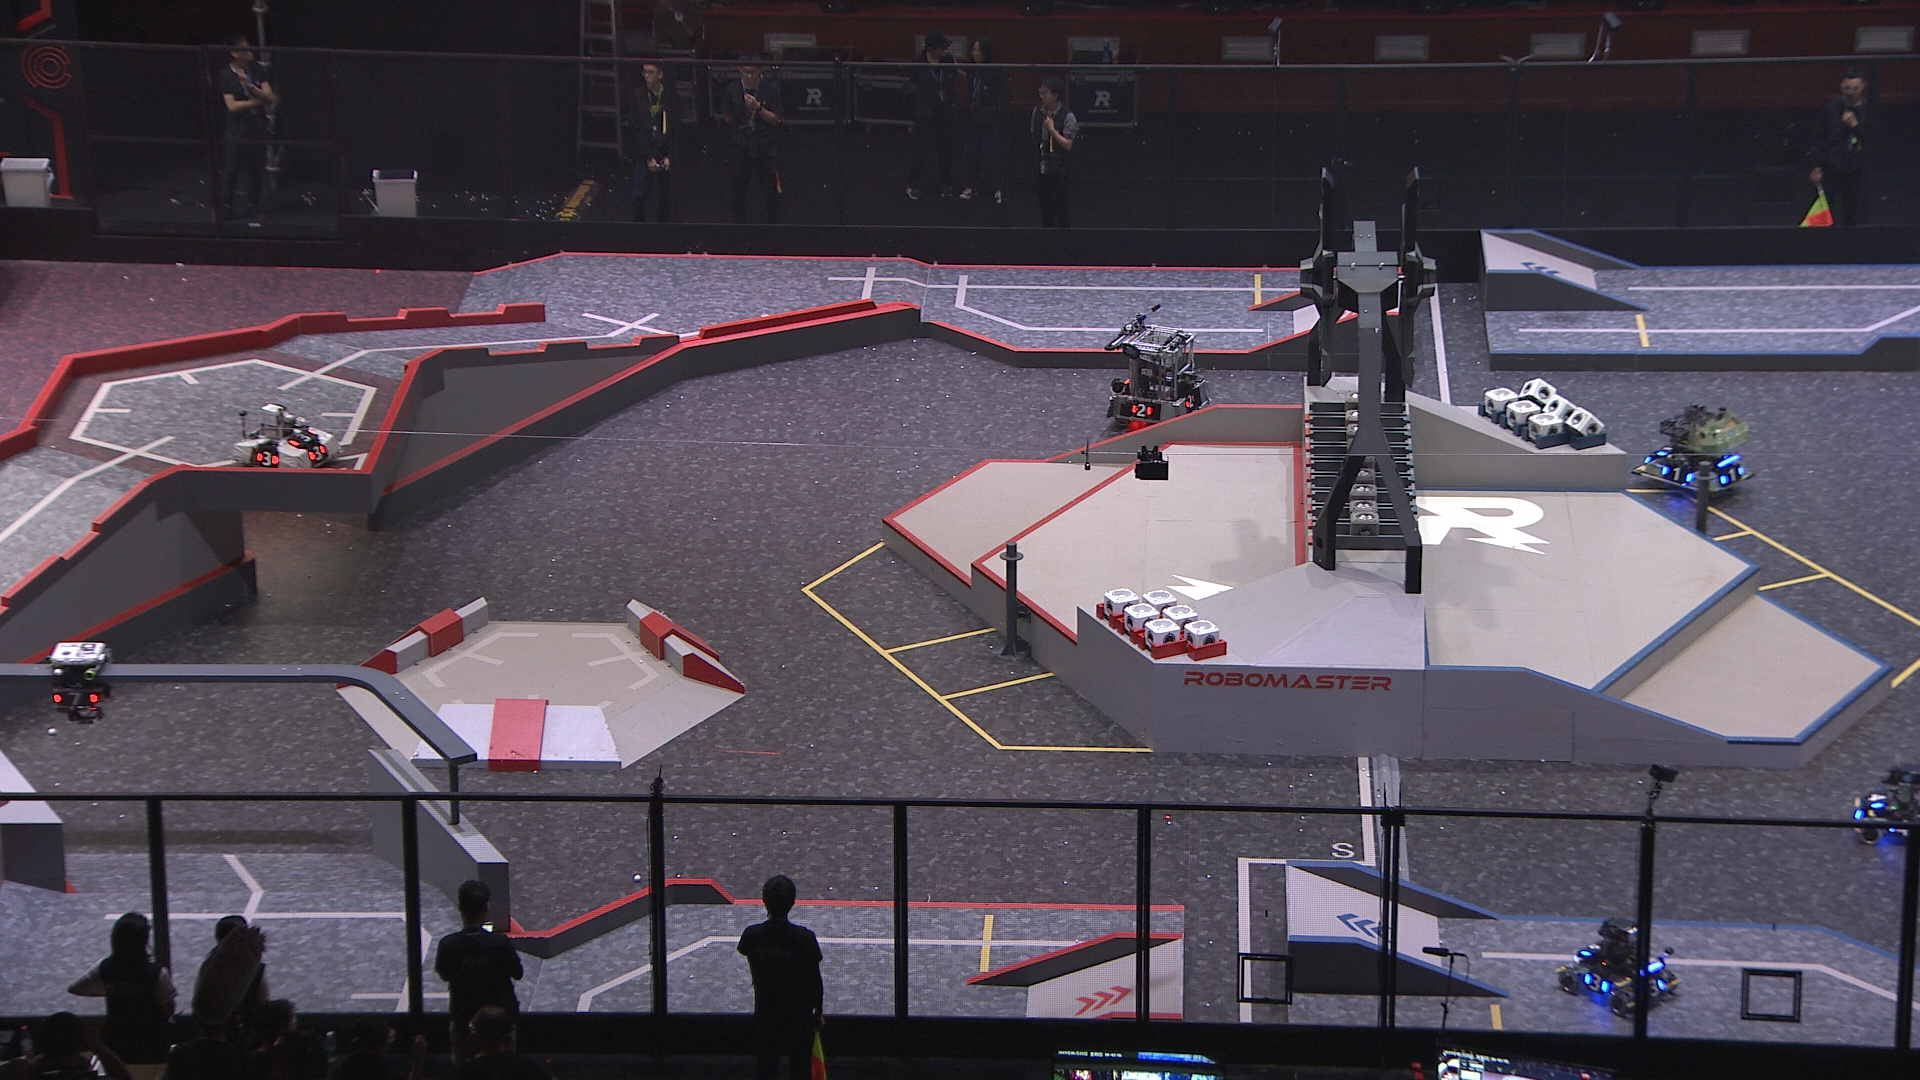armor: (51, 688, 102, 712), (1658, 462, 1695, 487), (285, 425, 319, 448), (1640, 972, 1665, 1004), (1718, 462, 1747, 488), (1888, 816, 1916, 841), (1584, 971, 1610, 996), (1127, 400, 1155, 423), (305, 439, 328, 465), (1575, 938, 1600, 960), (256, 447, 280, 469), (1654, 436, 1676, 460), (1179, 392, 1201, 414), (1866, 789, 1888, 811)
car: (1561, 913, 1684, 1014), (1106, 320, 1216, 433), (1636, 401, 1753, 501), (228, 400, 344, 483), (1850, 760, 1920, 849)
watcher: (45, 637, 113, 723)
